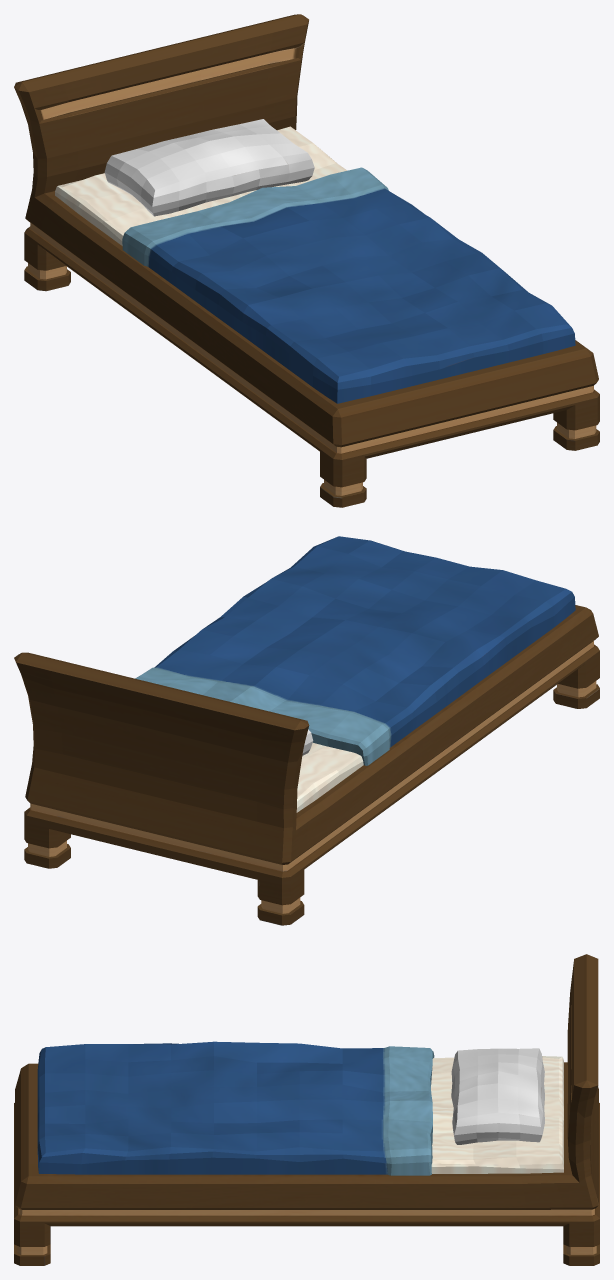
File: Bed1.fbx
The picture shows the model from 3 angles, top to bottom: view 1: azimuth 30°, elevation 25°; view 2: azimuth 150°, elevation 25°; view 3: azimuth 270°, elevation 25°; orthographic projection. The views are drawn at different scales.
Parts seen in each view (by area): view 1: bed1; view 2: bed1; view 3: bed1.
Boxes of the visible parts, x1,y1,x2,y2 form: bed1: [14, 14, 599, 507]; bed1: [14, 536, 599, 925]; bed1: [14, 954, 599, 1265].
Size of the model in its own units: 186 by 124 by 351.
